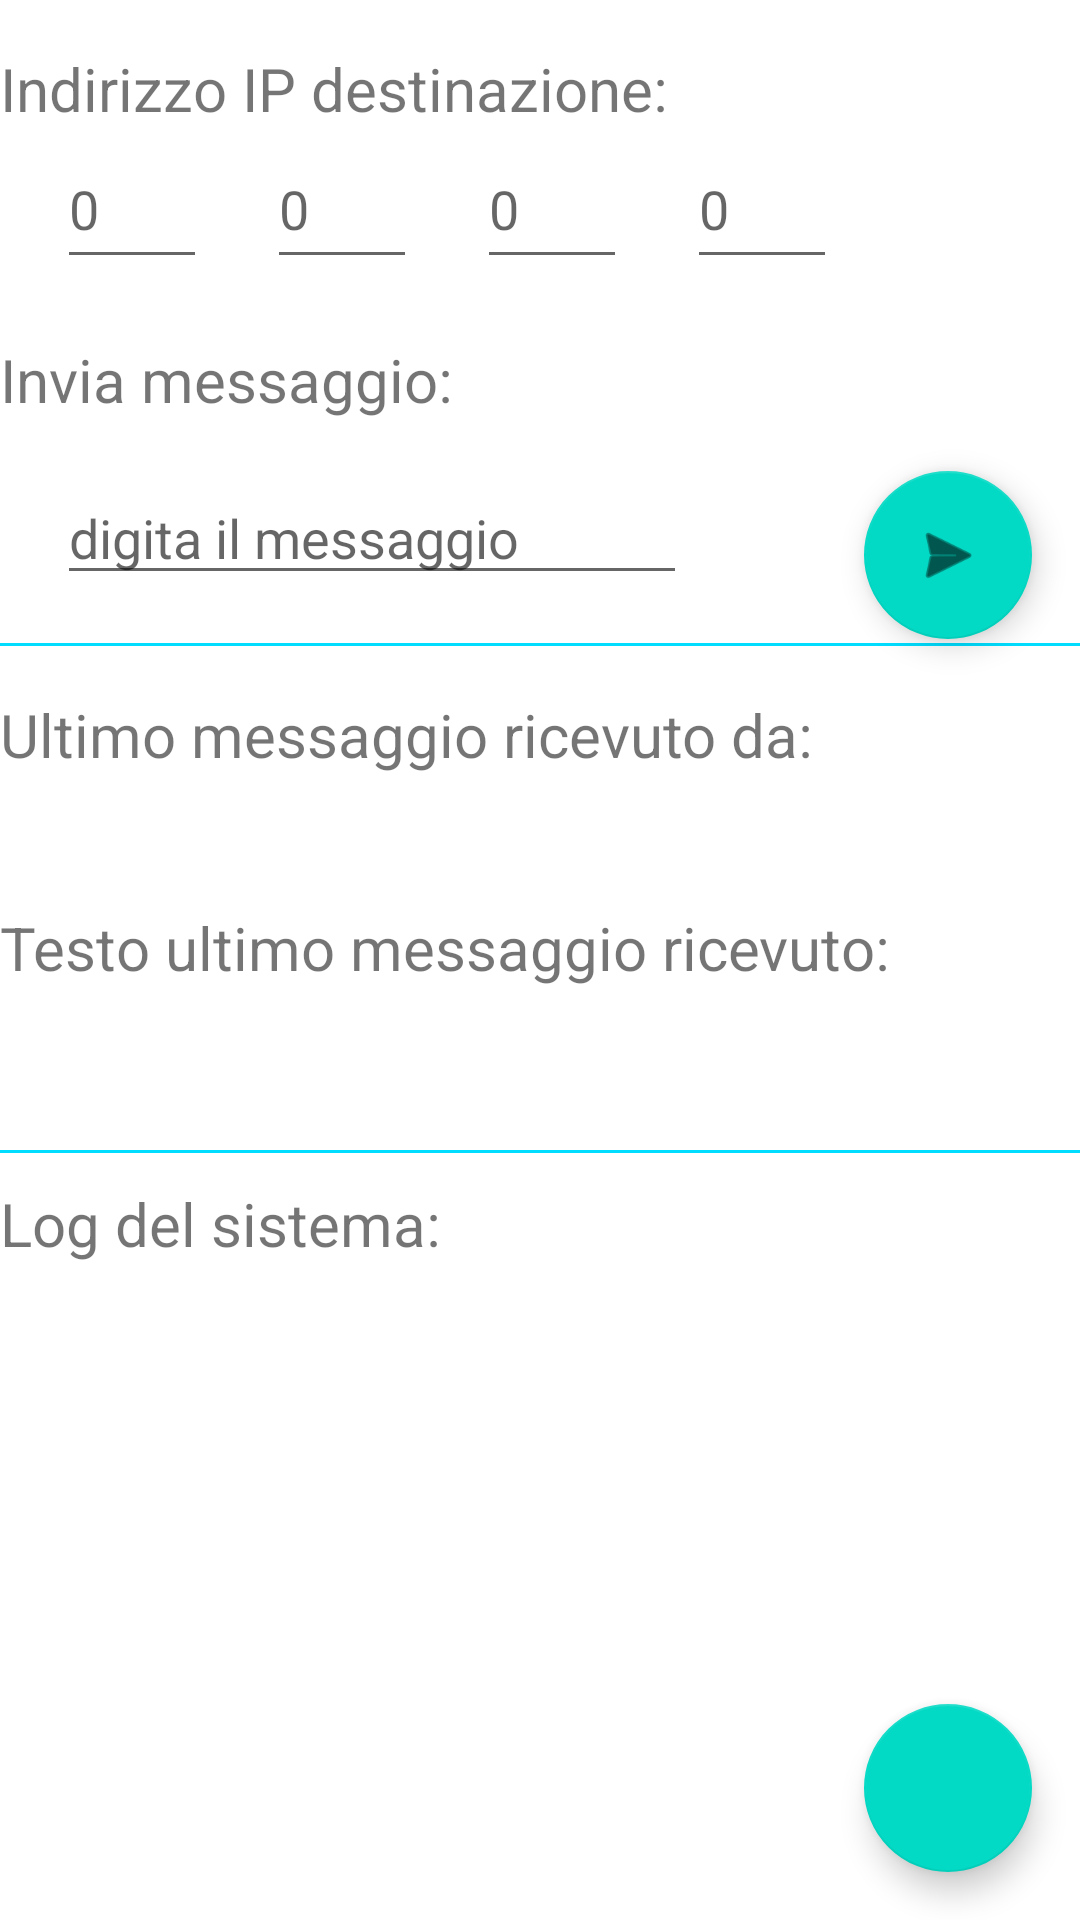

Named icons in this screenshot (1080x1920) and their centers, [x,y]:
send: [948,555]
